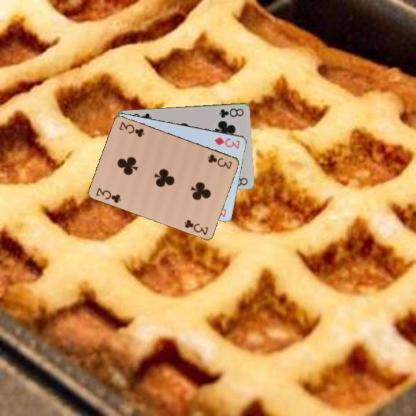3c: (94, 185, 122, 204), (205, 152, 234, 170)
3d: (212, 134, 241, 150)
8c: (217, 106, 245, 118)
